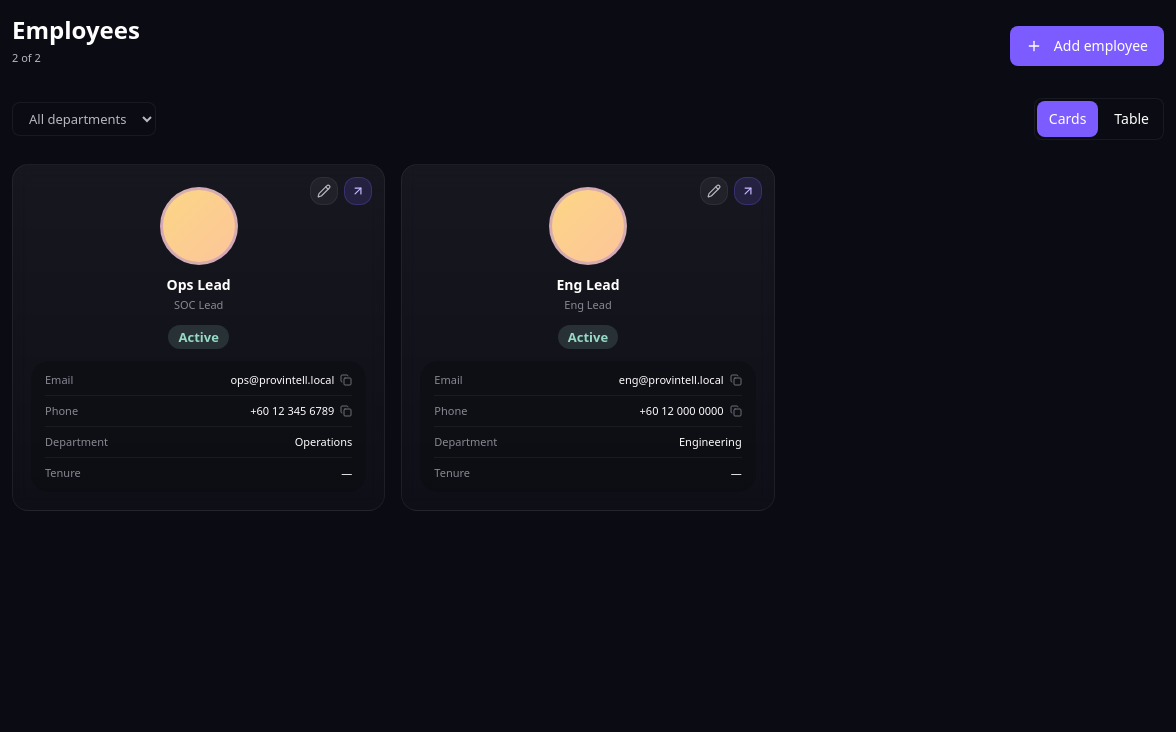
Scenario: EmployeesPage › toggles to table view
The image size is (1176, 732).
expect the heading "Ops Lead" is shown: met, box [167,275,231,294]
Click the button with aria-label "table view": point(1132, 119) [1102,101,1161,137]
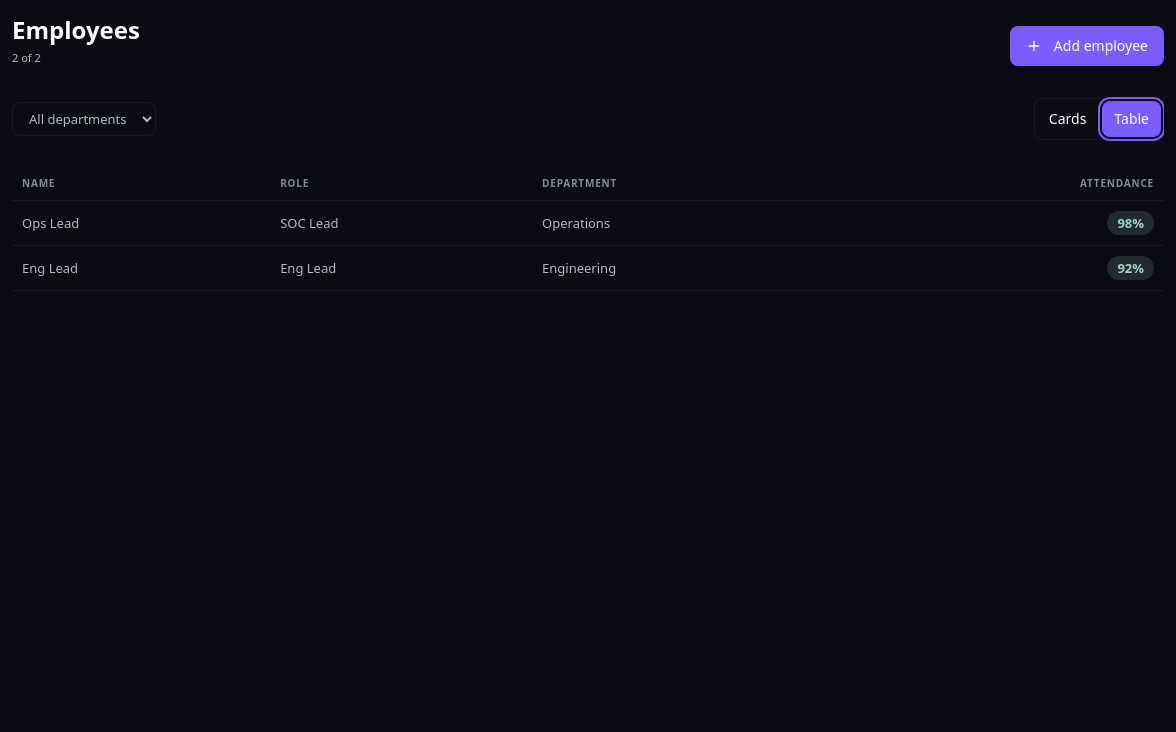
expect the table is shown: met, box [12,164,1164,291]
